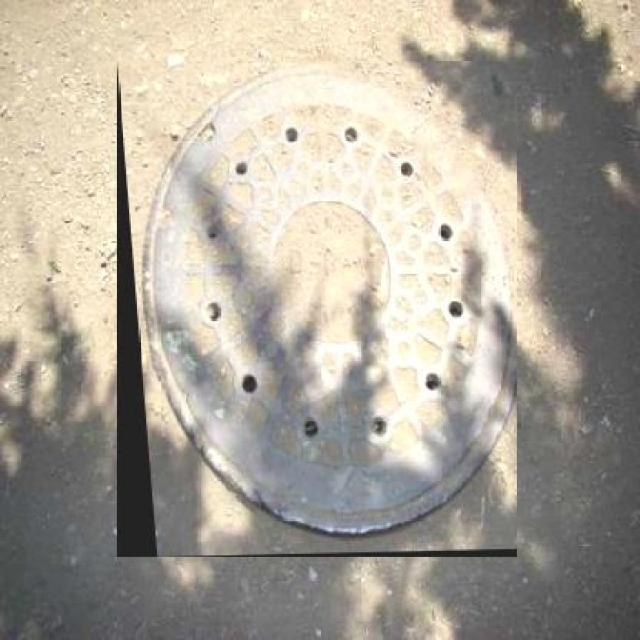Manhole: (117, 60, 517, 557)
